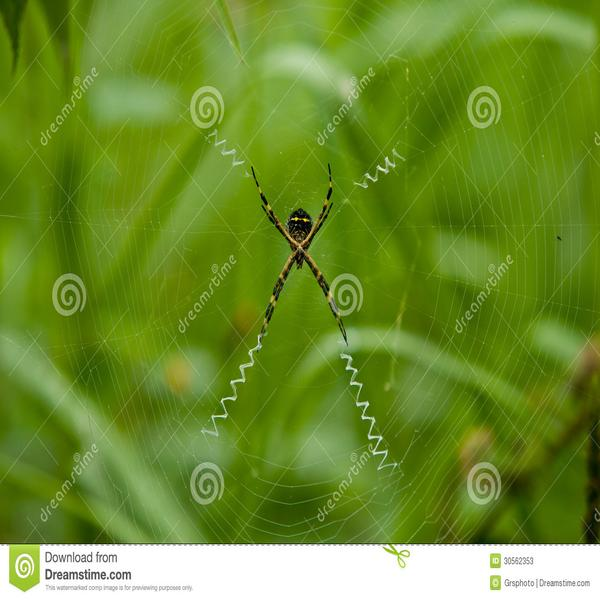St Andrew's Cross Spider: (251, 163, 355, 348)
